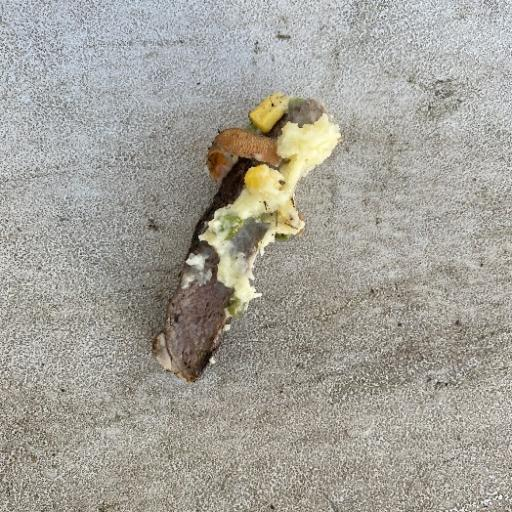Waste: (149, 91, 343, 384)
